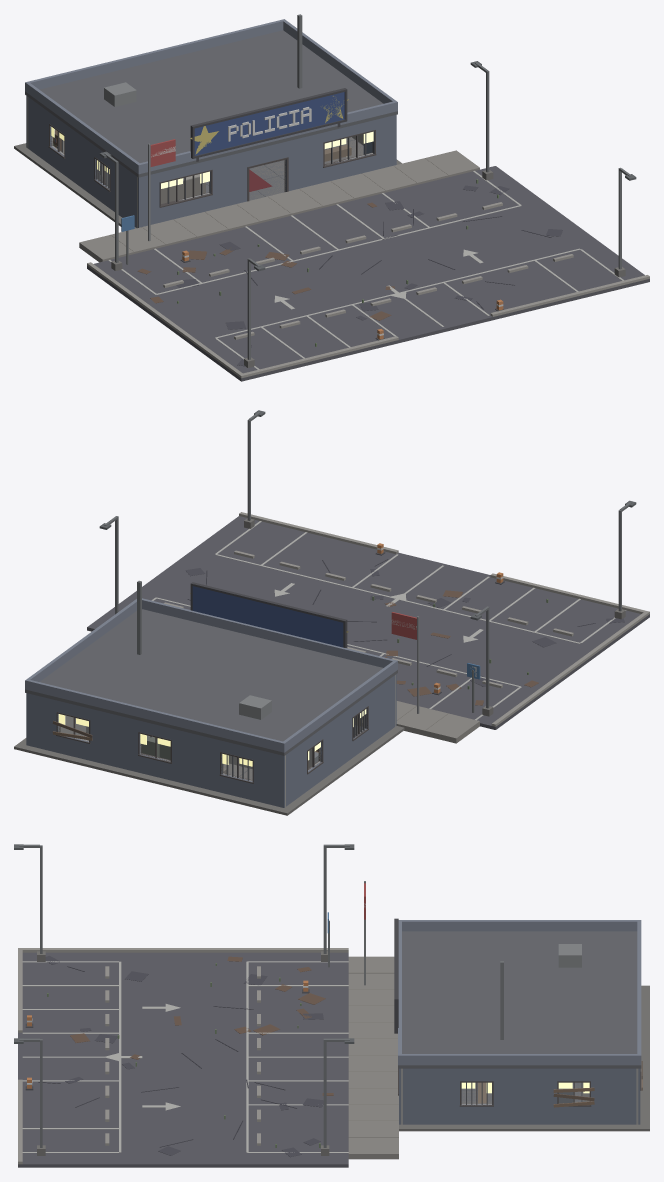
Rendered from predio_policia.glb.
The picture shows the model from 3 angles, top to bottom: view 1: azimuth 30°, elevation 25°; view 2: azimuth 150°, elevation 25°; view 3: azimuth 270°, elevation 25°; orthographic projection. The views are drawn at different scales.
Parts seen in each view (by area): view 1: parking, roof, wall_south, walls_exterior, sign, floor, furniture, flag, glass; view 2: parking, roof, walls_exterior, sign, floor, flag, glass; view 3: parking, roof, walls_exterior, floor, sign, decor_grim.
Part boxes in pixels (box(x1,y1,x2,y2)): parking: box(79, 61, 649, 381); roof: box(25, 14, 397, 177); wall_south: box(137, 115, 396, 228); walls_exterior: box(26, 96, 374, 227); sign: box(190, 88, 348, 161); floor: box(14, 137, 401, 228); furniture: box(53, 130, 372, 203); flag: box(148, 139, 175, 241); glass: box(51, 127, 373, 188); parking: box(87, 410, 649, 743); roof: box(25, 580, 397, 755); walls_exterior: box(26, 675, 394, 807); sign: box(190, 582, 348, 647); floor: box(14, 725, 404, 815); flag: box(391, 612, 419, 713); glass: box(58, 709, 366, 766); parking: box(14, 844, 398, 1167); roof: box(398, 920, 641, 1068); walls_exterior: box(403, 1068, 641, 1124); floor: box(399, 985, 649, 1131); sign: box(394, 918, 398, 1033); decor_grim: box(553, 1061, 642, 1107).
Size of the model in its own units: 26 by 8 by 32.7.
